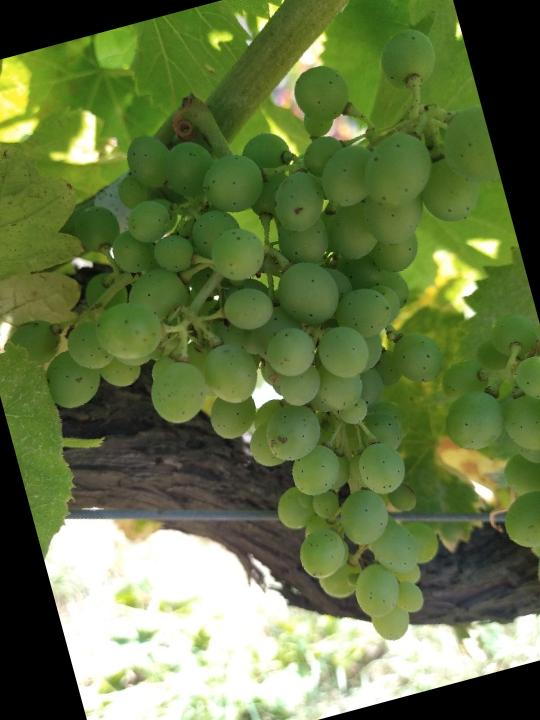grape: (0, 13, 540, 720)
